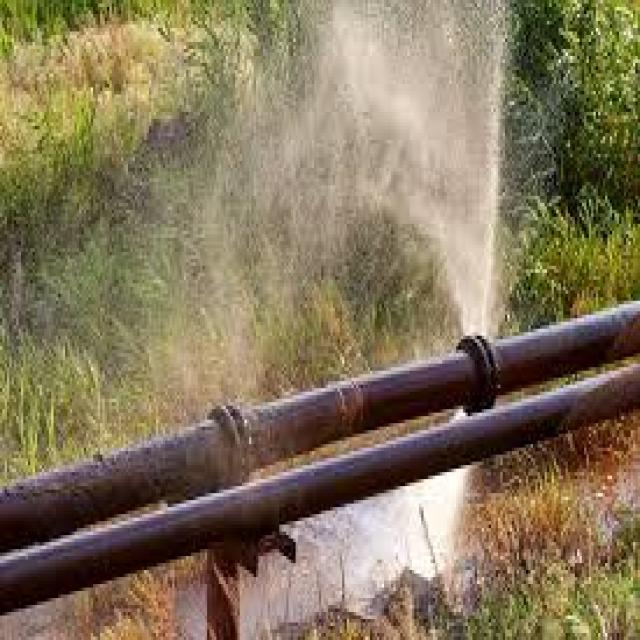corrosion: (399, 241, 552, 411)
